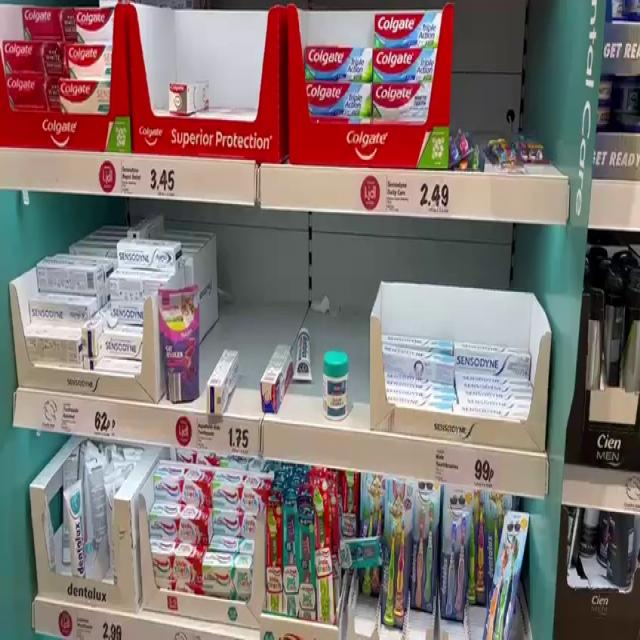Other: (159, 277, 204, 405), (587, 252, 617, 406), (603, 266, 632, 408), (322, 348, 350, 421), (292, 326, 316, 389)
Toothbrush: (485, 508, 527, 640), (432, 481, 470, 622), (408, 475, 438, 614), (381, 474, 407, 633), (310, 479, 339, 618), (356, 470, 383, 609), (263, 488, 287, 615), (292, 493, 316, 612), (278, 491, 301, 613)
Toothpaste: (370, 44, 452, 95), (377, 335, 456, 386), (300, 78, 377, 128), (453, 338, 539, 382), (143, 533, 208, 589), (300, 40, 376, 85), (61, 489, 95, 588), (371, 5, 448, 47), (367, 82, 449, 119), (150, 507, 213, 554), (33, 252, 107, 291), (149, 464, 217, 506), (34, 287, 96, 329), (209, 474, 271, 516), (207, 344, 242, 417), (260, 341, 293, 415), (103, 270, 176, 303), (56, 74, 112, 116), (202, 552, 255, 596), (55, 39, 114, 78), (119, 236, 182, 270), (105, 298, 166, 332), (92, 327, 153, 356), (71, 7, 118, 38)
